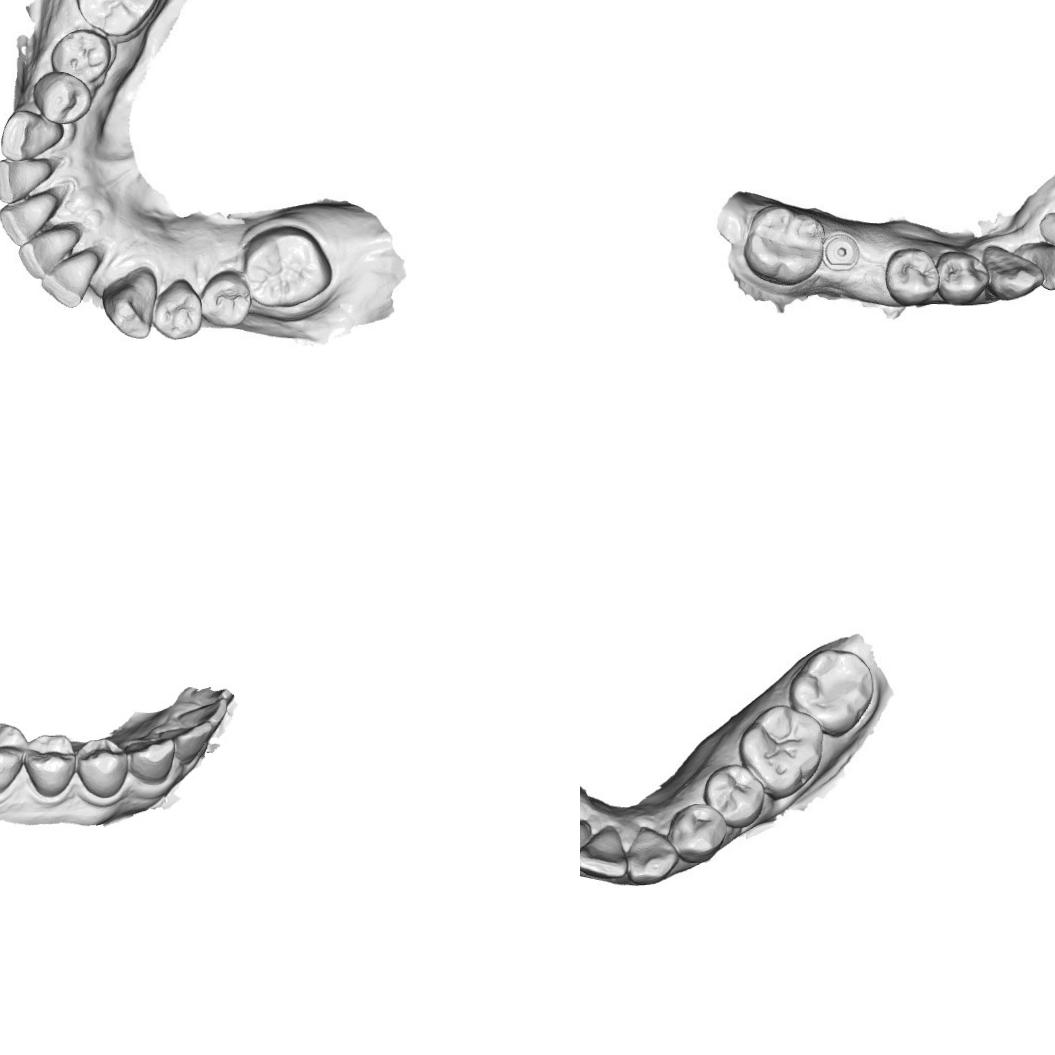canine: (100, 264, 160, 341), (982, 242, 1044, 302), (0, 107, 66, 162), (624, 822, 678, 884), (122, 732, 176, 785)
implant: (822, 230, 864, 272)
incisor: (39, 249, 101, 310), (17, 224, 81, 281), (0, 189, 60, 248), (580, 826, 632, 880), (0, 157, 55, 205), (172, 718, 214, 766), (176, 696, 230, 731), (1022, 237, 1055, 291), (1039, 213, 1055, 265), (580, 815, 590, 873)
molar: (241, 223, 334, 309), (788, 645, 875, 732), (744, 705, 826, 790), (742, 204, 825, 286), (70, 0, 161, 39), (0, 712, 26, 797)
premolar: (667, 802, 732, 864), (48, 28, 112, 86), (74, 735, 131, 800), (22, 733, 78, 799), (883, 246, 942, 308), (30, 69, 93, 126), (152, 278, 205, 341), (198, 268, 252, 329), (935, 247, 991, 304), (714, 765, 768, 823)
